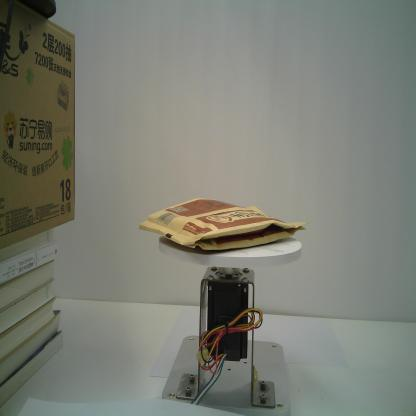Dried Food: (139, 197, 308, 251)
